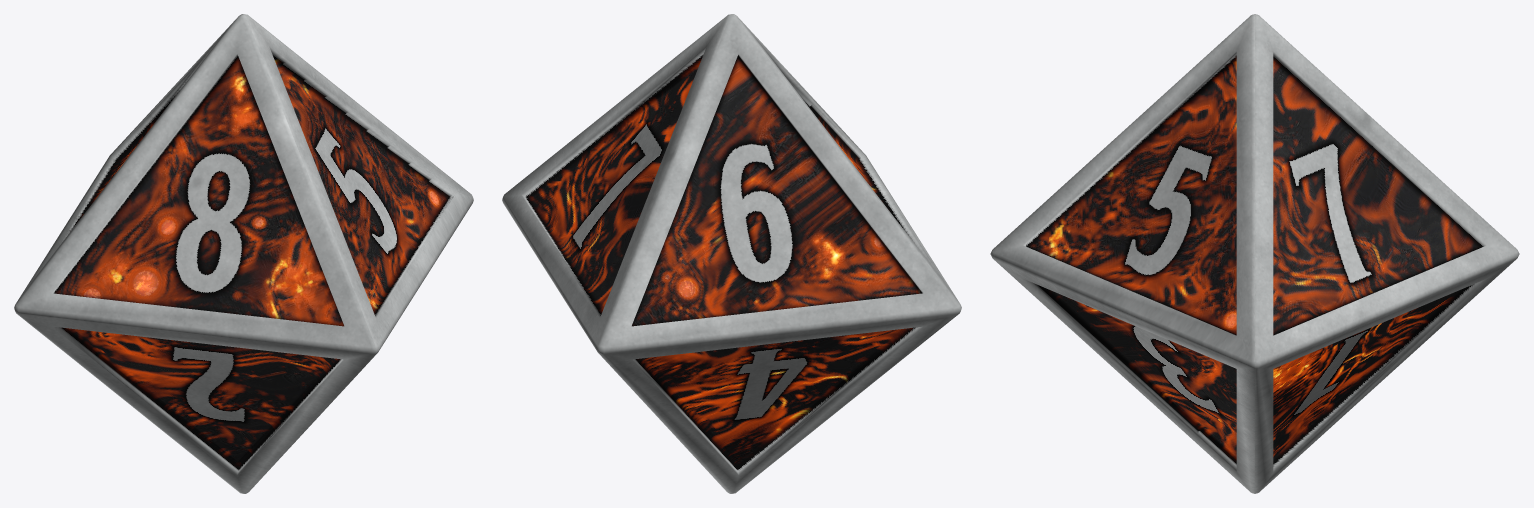
3 views of the same model, side by side, from view 1: azimuth 30°, elevation 25°; view 2: azimuth 150°, elevation 25°; view 3: azimuth 270°, elevation 25° (orthographic).
Visible parts, largest first — view 1: dice_8; view 2: dice_8; view 3: dice_8.
Boxes of the visible parts, <box> form: dice_8: <box>14,14,473,493</box>; dice_8: <box>502,14,961,493</box>; dice_8: <box>990,14,1519,493</box>.
Bounding box in the file's own units: 1.97 × 1.97 × 1.97.
1 material, 1 textured.
